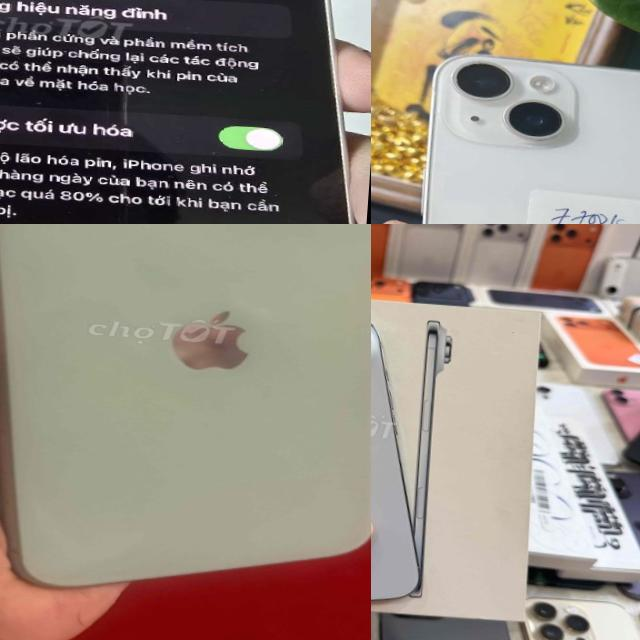gen_11: (0, 224, 371, 622)
gen_14: (0, 0, 371, 224), (394, 46, 640, 224)
gen_17: (371, 296, 447, 612)
